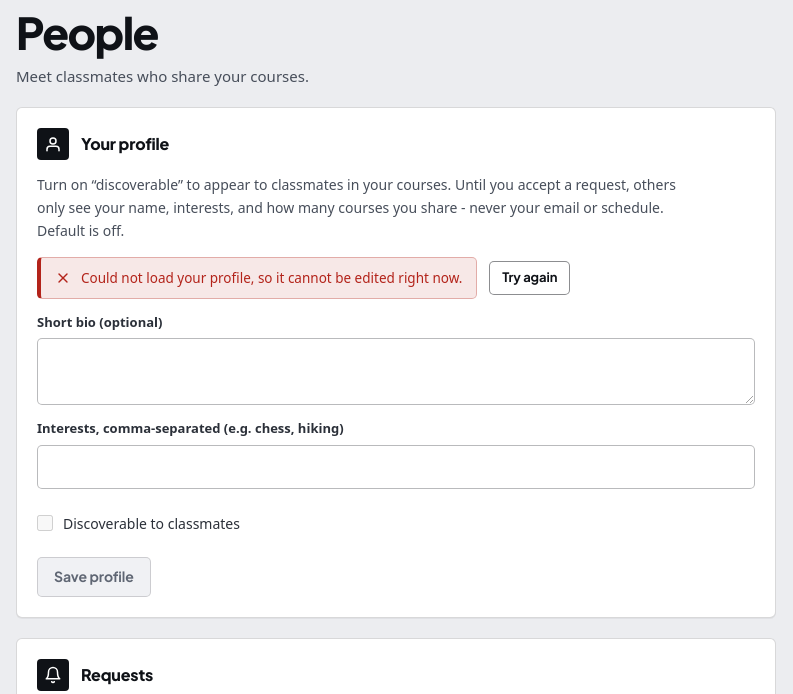
Test: Friends profile and Connect feedback › keeps the profile form closed when it cannot load, so Save cannot overwrite the saved profile
Expected: the message shows "Could not load your profile", 81,269 -> 462,287
Expected: the text box labelled "Short bio (optional)" is disabled, 37,338 -> 755,405
Click the button "Try again": point(530, 278) 489,261 -> 570,295
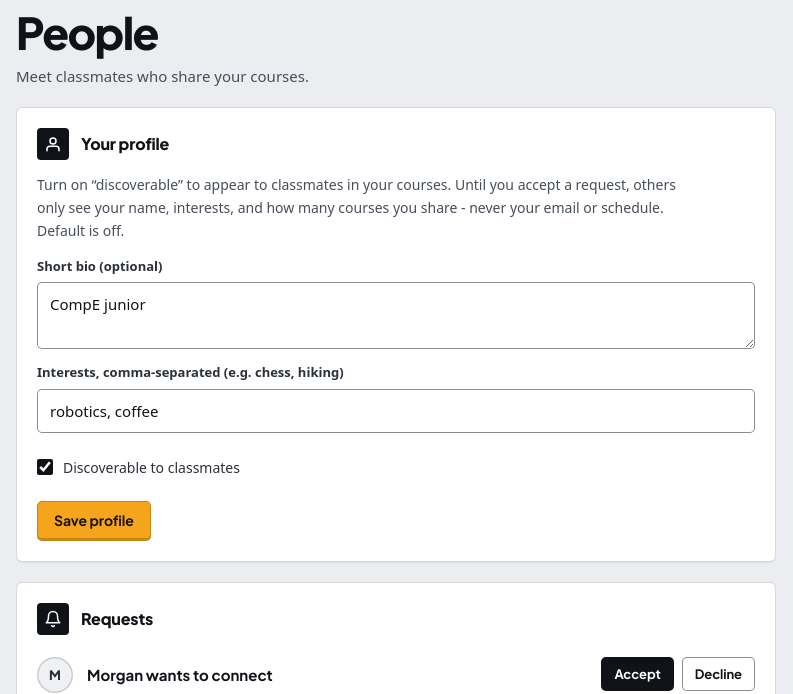
Result: the text box labelled "Short bio (optional)" holds "CompE junior" at 37,282 -> 755,349
Result: the field labelled "Interests, comma-separated (e.g. chess, hiking)" holds "robotics, coffee" at 37,389 -> 755,433
Result: the checkbox labelled "Discoverable to classmates" is checked at 37,459 -> 53,475
